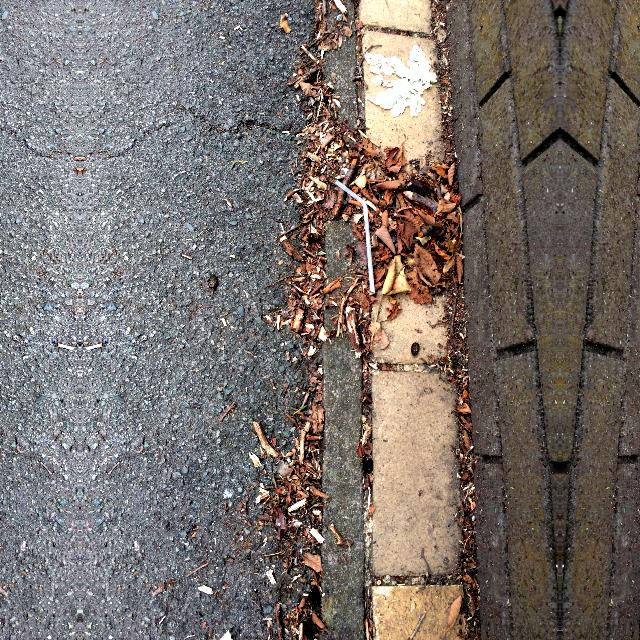Plastic: (332, 177, 380, 297)
